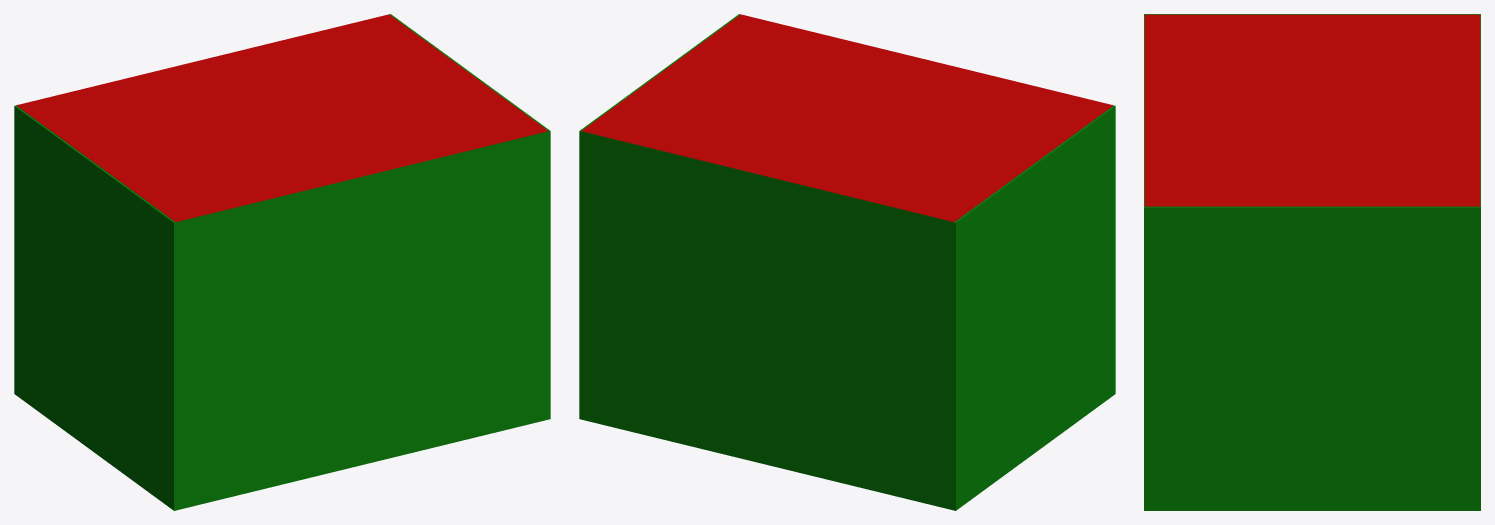
File: SciFi_rolling_cart.DAE
3 renders of one model, left to right at view 1: azimuth 30°, elevation 25°; view 2: azimuth 150°, elevation 25°; view 3: azimuth 270°, elevation 25°, orthographic. The views are drawn at different scales.
Visible parts, largest first — view 1: bounds, colbox-01; view 2: bounds, colbox-01; view 3: bounds, colbox-01.
Boxes of the visible parts, x1,y1,x2,y2 form: bounds: [14, 14, 550, 510]; colbox-01: [16, 14, 548, 221]; bounds: [579, 14, 1115, 510]; colbox-01: [581, 14, 1113, 221]; bounds: [1144, 14, 1480, 510]; colbox-01: [1144, 14, 1480, 206].
Size of the model in its own units: 161 by 118 by 118.
